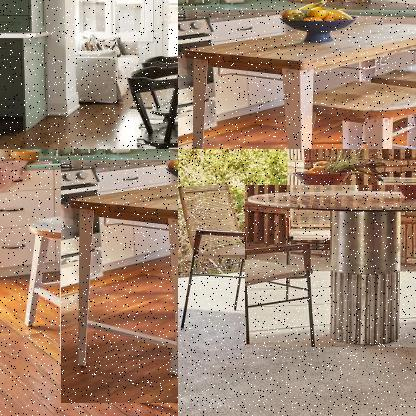table: (178, 10, 415, 148), (61, 160, 177, 405), (245, 185, 415, 349)
